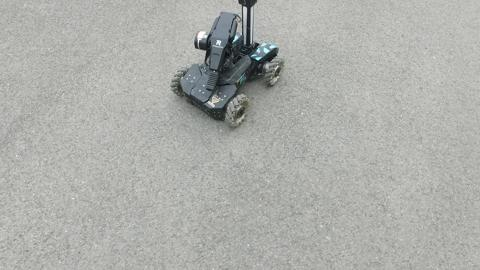chariot: (169, 1, 283, 129)
